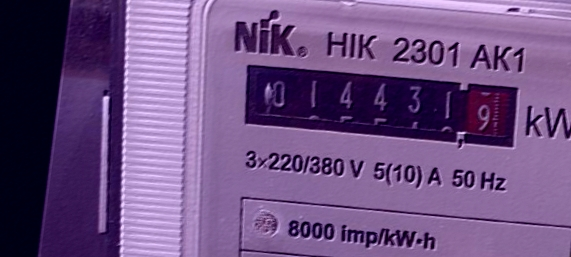0: (267, 75, 291, 111)
1: (304, 75, 326, 110), (440, 88, 457, 121)
3: (404, 83, 426, 117)
4: (335, 76, 360, 111), (370, 78, 392, 114)
9: (473, 100, 494, 133)
screen: (231, 45, 535, 167)
